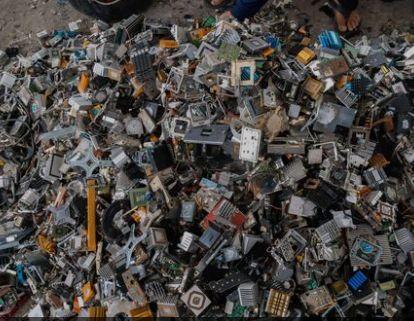electronic: (360, 67, 399, 105), (379, 92, 413, 132), (207, 268, 257, 295), (303, 179, 345, 211), (183, 122, 230, 146), (300, 285, 335, 315), (130, 43, 155, 83), (312, 103, 343, 134), (153, 249, 185, 278), (120, 150, 147, 183), (239, 126, 263, 163), (150, 141, 177, 173), (38, 154, 66, 184), (148, 174, 172, 208), (264, 288, 292, 317), (318, 56, 350, 79), (348, 142, 376, 168), (372, 233, 394, 266), (315, 219, 342, 245), (281, 156, 308, 182), (382, 287, 407, 315), (346, 226, 376, 249), (49, 277, 75, 303), (264, 108, 285, 140), (273, 235, 297, 262), (144, 18, 176, 38), (394, 39, 414, 71), (198, 224, 223, 249), (119, 13, 142, 39), (271, 261, 295, 285), (335, 87, 360, 110), (268, 141, 306, 156), (393, 227, 414, 254), (214, 41, 241, 62), (36, 46, 64, 66), (177, 76, 201, 99), (317, 29, 343, 50), (24, 265, 45, 291), (393, 136, 413, 163), (145, 280, 169, 302), (240, 98, 261, 123), (302, 76, 324, 99), (18, 188, 41, 210), (363, 167, 387, 188), (242, 37, 270, 55), (347, 270, 369, 292), (97, 41, 119, 63), (102, 110, 124, 132), (128, 187, 149, 210), (9, 116, 30, 138), (364, 50, 387, 69), (215, 200, 236, 220), (226, 299, 248, 318), (32, 74, 52, 94), (178, 231, 197, 252), (37, 233, 56, 254), (98, 263, 116, 285), (295, 47, 316, 65), (129, 304, 154, 319), (125, 118, 144, 137), (189, 27, 213, 42), (277, 68, 299, 84), (180, 200, 196, 222), (15, 262, 28, 287), (81, 281, 95, 304), (181, 43, 199, 60), (95, 241, 104, 273), (88, 305, 107, 320), (91, 62, 107, 78), (78, 72, 90, 93), (113, 26, 126, 45), (201, 15, 217, 28), (85, 44, 97, 61), (48, 34, 63, 47), (378, 280, 395, 291), (68, 19, 82, 32), (123, 62, 135, 76), (241, 66, 252, 80), (299, 36, 312, 47), (36, 29, 49, 39)
